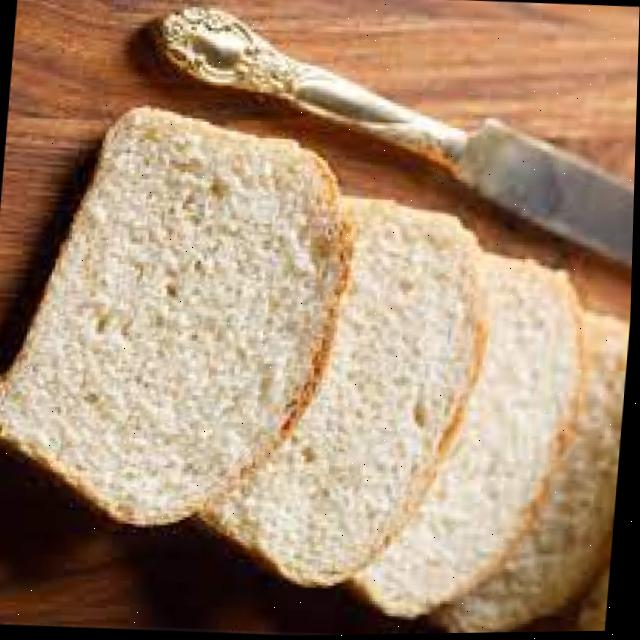Bread: (210, 201, 631, 634), (0, 109, 348, 525), (213, 205, 476, 584), (363, 257, 576, 616)
